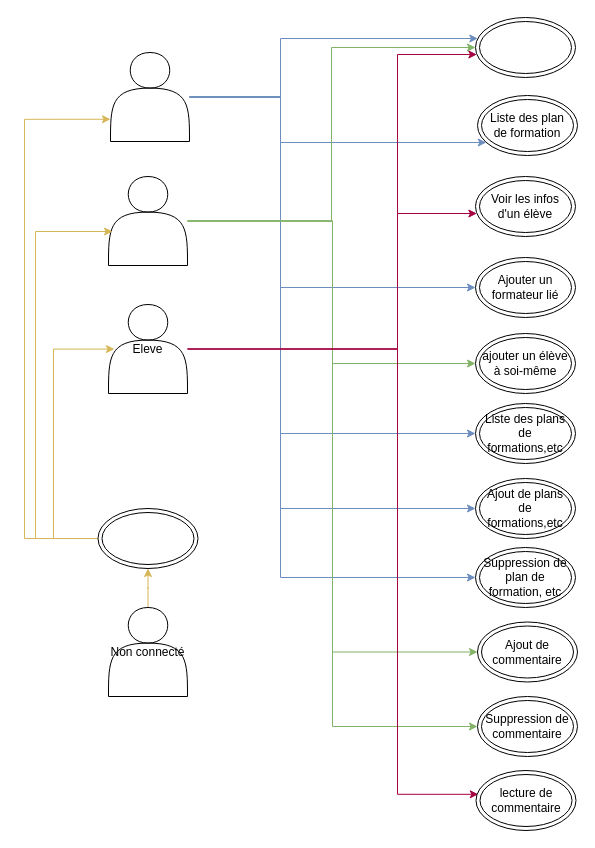
Some shapes in this 595 by 848 pixel diagram are drawn without their labels. The centre of each missing label's shape, as x and y in pixels:
"Admin" belongs at point (150, 97).
"Enseignant" belongs at point (148, 221).
"Liste des Apprentis et Enseignants" belongs at point (525, 47).
"Se connecter" belongs at point (147, 538).
